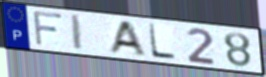2: (184, 26, 218, 66)
8: (222, 30, 254, 69)
A: (106, 20, 148, 56)
F: (31, 9, 65, 47)
I: (69, 13, 85, 53)
L: (147, 22, 179, 62)
